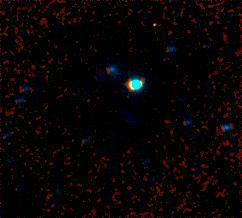star: (135, 12, 165, 42)
